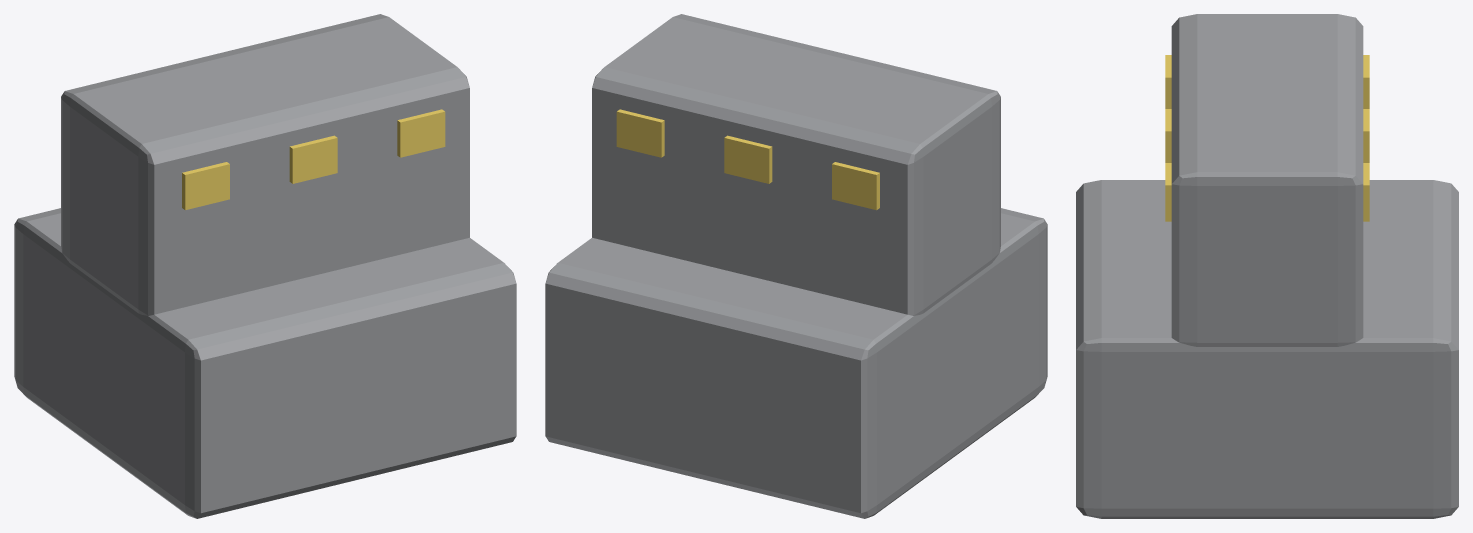
File: prop_partition.fbx
3 renders of one model, left to right at view 1: azimuth 30°, elevation 25°; view 2: azimuth 150°, elevation 25°; view 3: azimuth 270°, elevation 25°, orthographic. The views are drawn at different scales.
Visible parts, largest first — view 1: prop_partition; view 2: prop_partition; view 3: prop_partition.
Part boxes in pixels (<box>): prop_partition: <box>14,14,516,518</box>; prop_partition: <box>545,14,1047,518</box>; prop_partition: <box>1076,14,1458,518</box>.
Size of the model in its own units: 1 by 1 by 1.
